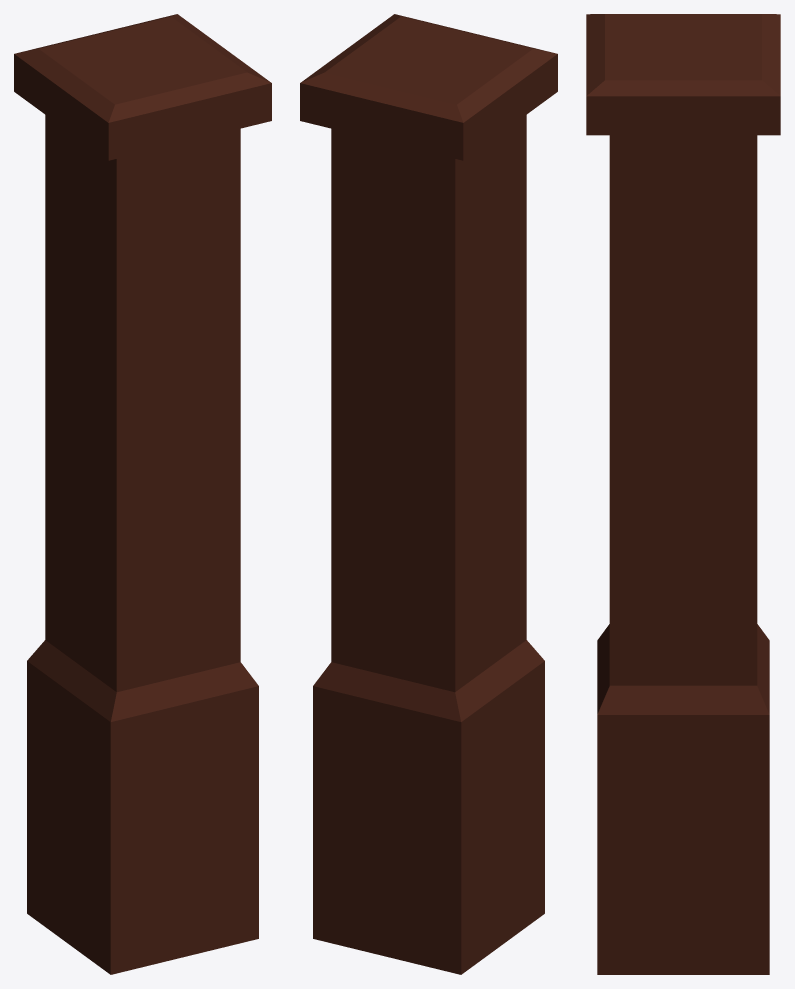
File: Pillar Fence Post.glb
The picture shows the model from 3 angles, left to right: view 1: azimuth 30°, elevation 25°; view 2: azimuth 150°, elevation 25°; view 3: azimuth 270°, elevation 25°; orthographic projection. The views are drawn at different scales.
Visible parts, largest first — view 1: Pillar Fence Post; view 2: Pillar Fence Post; view 3: Pillar Fence Post.
Part boxes in pixels (box(x1,y1,x2,y2)): Pillar Fence Post: box(14, 14, 271, 974); Pillar Fence Post: box(300, 14, 557, 974); Pillar Fence Post: box(586, 14, 780, 974).
Size of the model in its own units: 0.3757 by 1.9 by 0.376.
